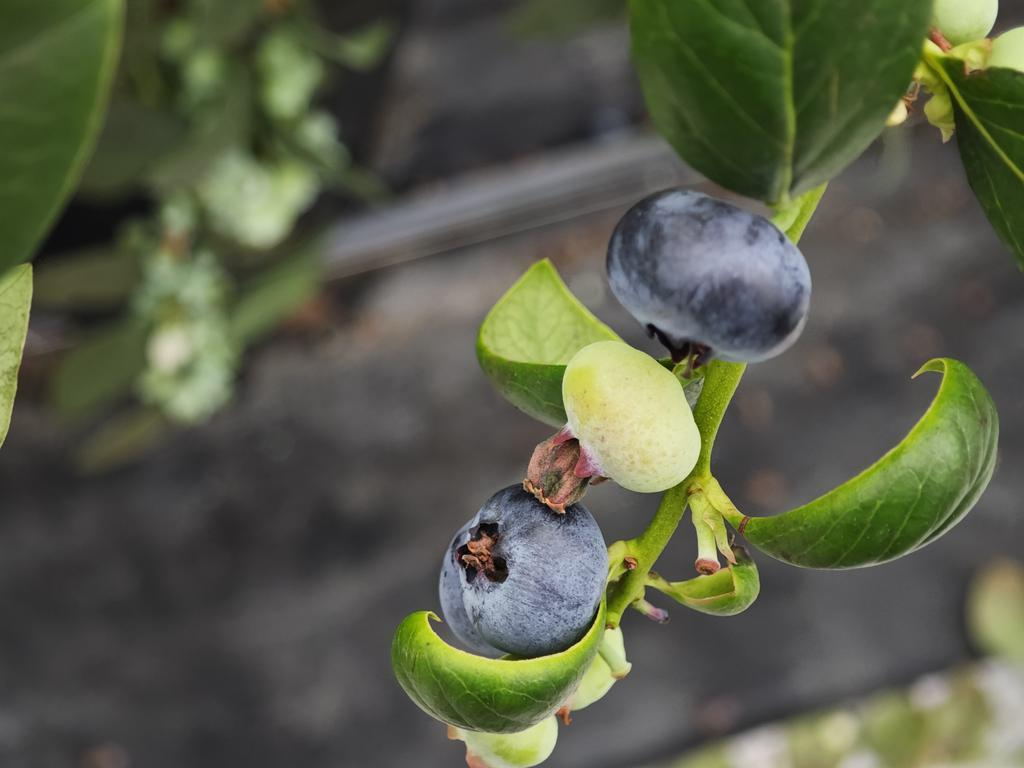RipeBlueBerry: (606, 190, 811, 360), (438, 482, 603, 661)
UnripeBlueBerry: (566, 341, 702, 494)
